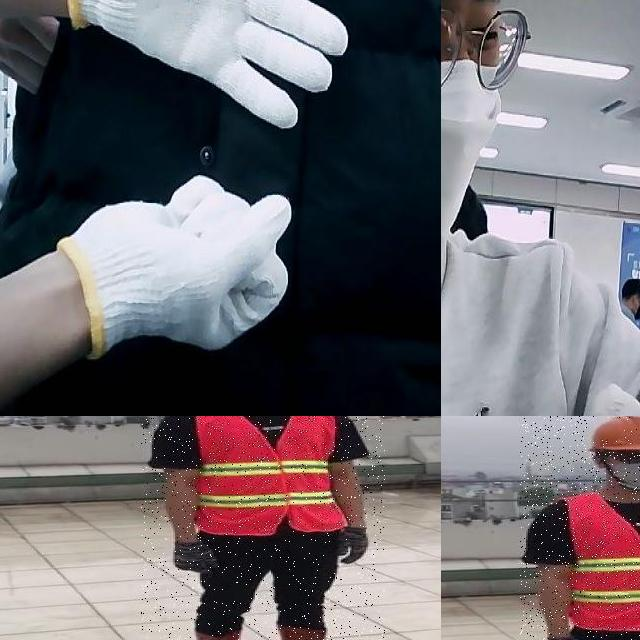BOOTS: (281, 622, 359, 640)
GLASS: (604, 450, 640, 466)
GLOVE: (56, 174, 294, 356), (66, 0, 350, 131), (472, 320, 640, 416), (173, 540, 220, 574), (337, 527, 369, 565), (546, 632, 590, 640)
HELMET: (588, 416, 640, 453)
VEST: (189, 416, 351, 536), (565, 492, 640, 626)
